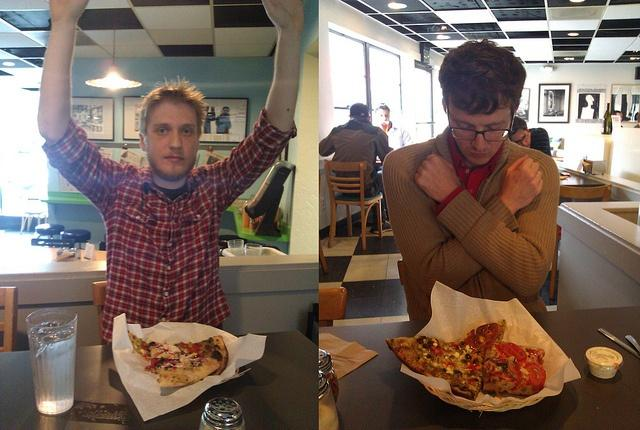Kursi: (321, 159, 383, 249)
